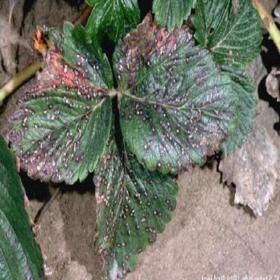Leaf Spot: (112, 11, 241, 175), (4, 21, 114, 184), (92, 133, 179, 279)
